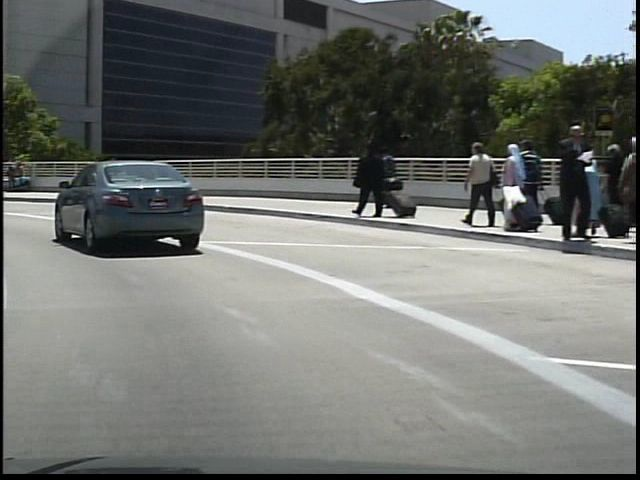person: (548, 120, 591, 243), (455, 137, 495, 229), (346, 140, 383, 220), (375, 146, 397, 210)
